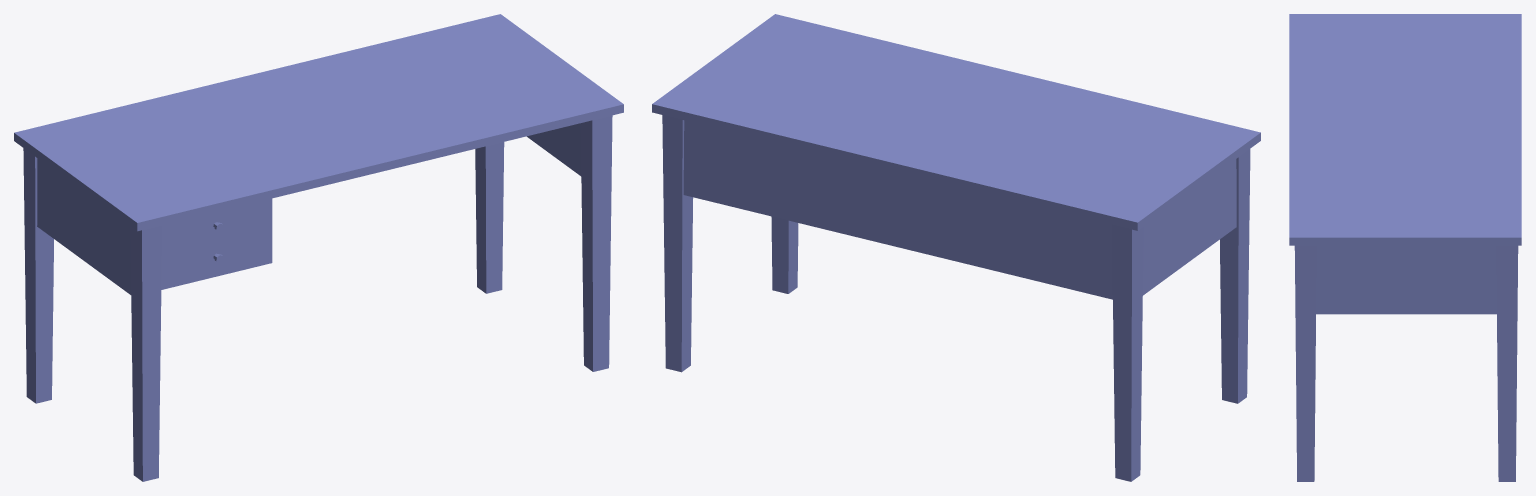
File: ARKELSTORP.fbx
3 renders of one model, left to right at view 1: azimuth 30°, elevation 25°; view 2: azimuth 150°, elevation 25°; view 3: azimuth 270°, elevation 25°, orthographic. The views are drawn at different scales.
Parts seen in each view (by area): view 1: LOW; view 2: LOW; view 3: LOW.
Boxes of the visible parts, x1,y1,x2,y2 form: LOW: (14,14,623,481); LOW: (652,14,1260,481); LOW: (1289,14,1521,481).
Size of the model in its own units: 389 by 202 by 171.
